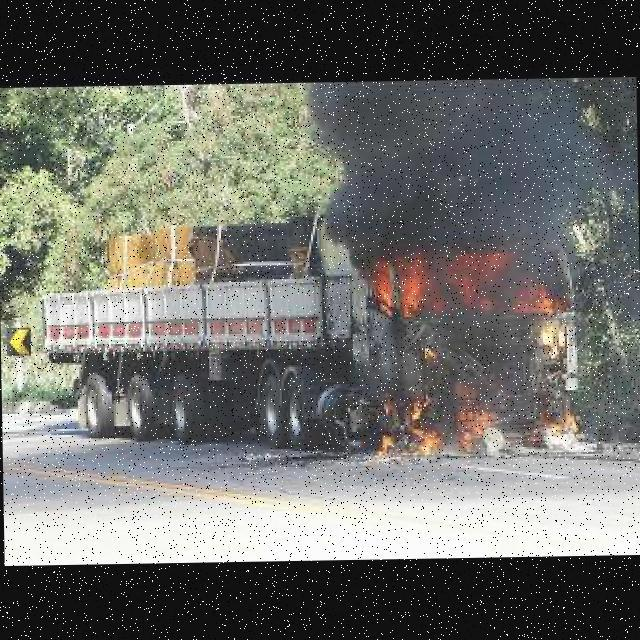Fire: (375, 246, 572, 319), (457, 379, 506, 448), (538, 408, 590, 435), (414, 426, 444, 455), (412, 396, 432, 420), (376, 433, 394, 459)
Smoke: (304, 69, 611, 268)
